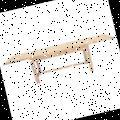Mesa: (1, 32, 119, 91)
